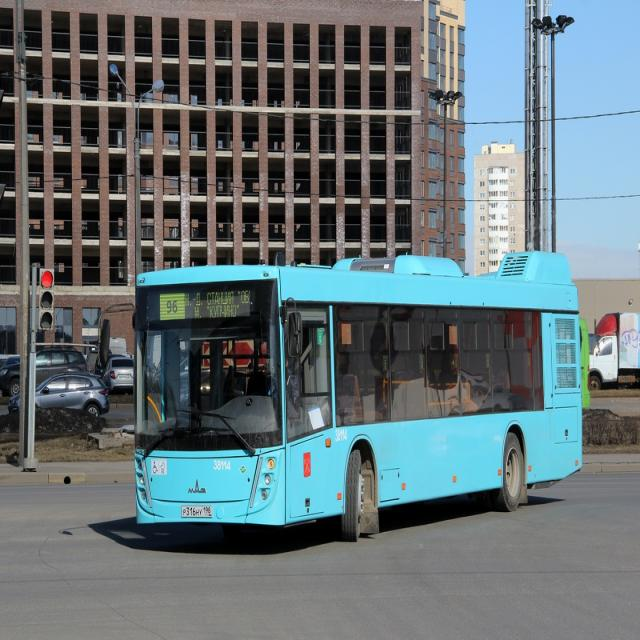number-of-bus: (161, 295, 185, 318)
